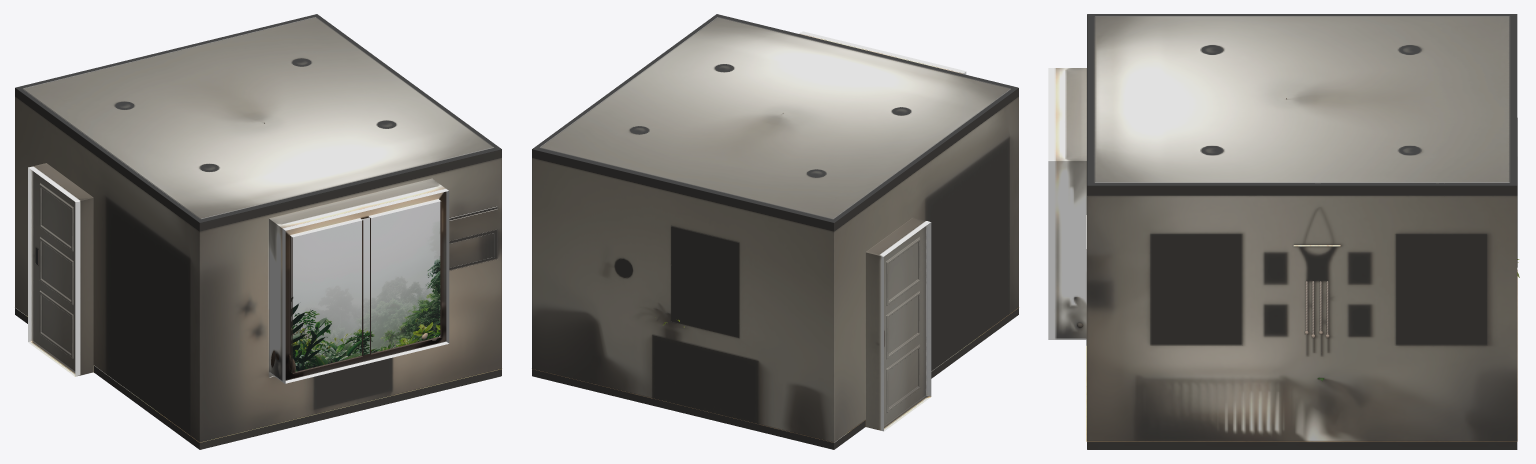
Rendered from nursery-room.fbx.
3 renders of one model, left to right at view 1: azimuth 30°, elevation 25°; view 2: azimuth 150°, elevation 25°; view 3: azimuth 270°, elevation 25°, orthographic. The views are drawn at different scales.
Parts seen in each view (by area): view 1: sm_walls_m_walls_0, sm_walls.003_m_window_0, sm_door_m_walls_0, sm_walls.001_m_walls_0; view 2: sm_walls_m_walls_0, sm_door_m_walls_0; view 3: sm_walls_m_walls_0, sm_wall_deco_m_details_0.
Part boxes in pixels (box(x1,y1,x2,y2)): sm_walls_m_walls_0: box(14, 14, 501, 449); sm_walls.003_m_window_0: box(291, 201, 440, 372); sm_door_m_walls_0: box(30, 166, 79, 375); sm_walls.001_m_walls_0: box(285, 191, 446, 380); sm_walls_m_walls_0: box(532, 14, 1019, 449); sm_door_m_walls_0: box(880, 221, 928, 428); sm_walls_m_walls_0: box(1048, 14, 1517, 449); sm_wall_deco_m_details_0: box(1293, 245, 1340, 337).
Bounding box in the file's own units: 466 × 314 × 505.
